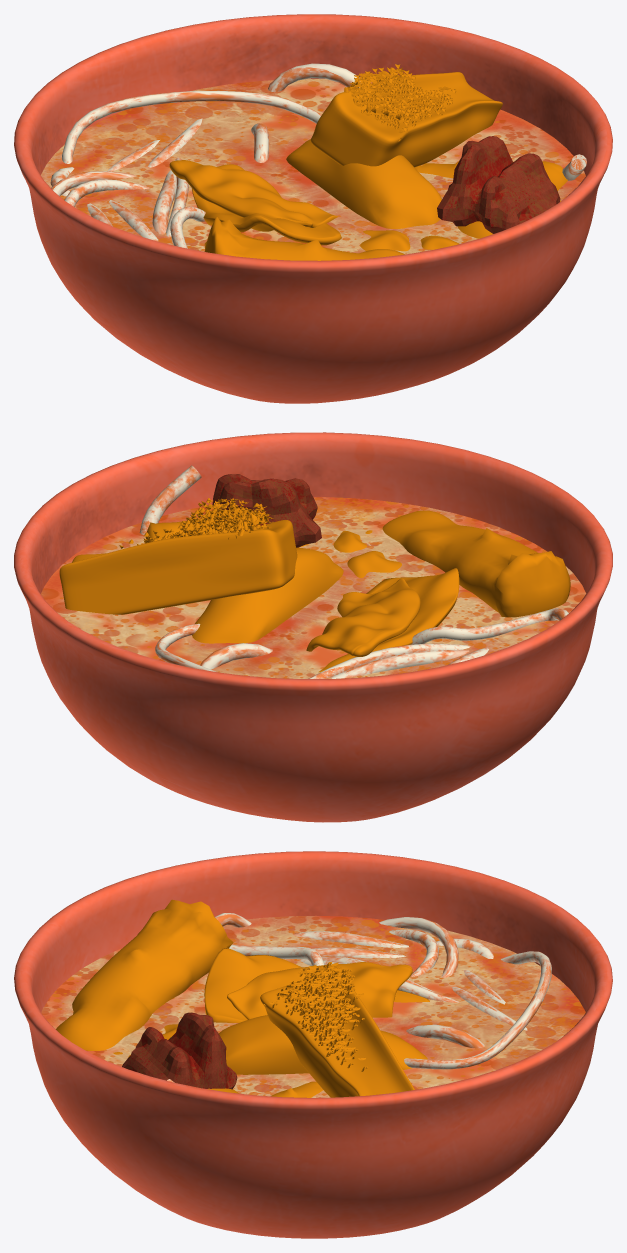
Rendered from Laksa_New.fbx.
3 views of the same model, one above another, from view 1: azimuth 30°, elevation 25°; view 2: azimuth 150°, elevation 25°; view 3: azimuth 270°, elevation 25° (orthographic).
Visible parts, largest first — view 1: Cube.002, Retopo_Cube.001, 立方体.004, 贝塞尔曲线.002, low, 立方体.006, 平面.004, 平面.008, 立方体.007, 平面.005, 贝塞尔曲线.003, 平面.010 (+1 smaller); view 2: Cube.002, Retopo_Cube.001, 立方体.004, 立方体.007, 贝塞尔曲线.002, 立方体.006, 平面.004, low, 平面.005, 平面.008, 平面.010, 平面.009; view 3: Cube.002, Retopo_Cube.001, 立方体.007, 贝塞尔曲线.002, 立方体.004, low, 平面.008, 立方体.006, 平面.004, 平面.005, 贝塞尔曲线.003.
Boxes of the visible parts, x1,y1,x2,y2 form: Cube.002: (14,14,612,403); Retopo_Cube.001: (41,78,585,254); 立方体.004: (310,72,502,167); 贝塞尔曲线.002: (50,63,586,248); low: (437,136,560,233); 立方体.006: (286,139,441,228); 平面.004: (169,160,337,227); 平面.008: (344,64,456,141); 立方体.007: (204,216,404,260); 平面.005: (192,188,341,245); 贝塞尔曲线.003: (87,118,202,241); 平面.010: (360,230,410,251); Cube.002: (14,432,612,822); Retopo_Cube.001: (41,497,586,678); 立方体.004: (59,520,297,614); 立方体.007: (382,510,570,617); 贝塞尔曲线.002: (139,465,568,678); 立方体.006: (192,547,343,643); 平面.004: (306,578,420,656); low: (212,474,321,547); 平面.005: (318,568,459,672); 平面.008: (119,498,273,548); 平面.010: (347,551,401,577); 平面.009: (333,530,372,552); Cube.002: (14,851,612,1238); Retopo_Cube.001: (41,915,585,1097); 立方体.007: (56,899,233,1050); 贝塞尔曲线.002: (167,913,551,1082); 立方体.004: (260,966,414,1097); low: (122,1012,237,1089); 平面.008: (263,962,368,1071); 立方体.006: (219,1015,427,1074); 平面.004: (227,962,412,1019); 平面.005: (204,948,429,1022); 贝塞尔曲线.003: (292,931,527,1030).
Size of the model in its own units: 294 by 143 by 294.
